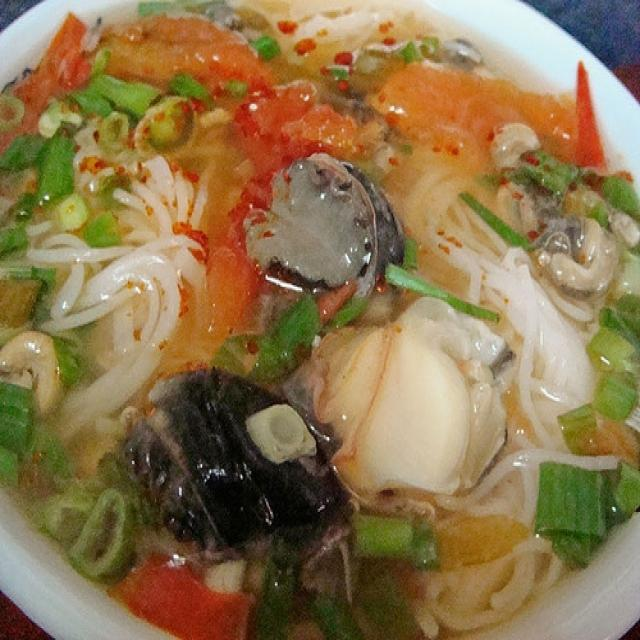面条主食: (4, 12, 623, 623)
